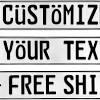C: (3, 4, 13, 24)
E: (33, 74, 45, 95), (45, 74, 56, 96), (75, 40, 87, 60)
F: (7, 74, 20, 96)
H: (75, 74, 87, 95)
I: (88, 73, 98, 96), (75, 3, 85, 25)
M: (63, 4, 74, 25)
R: (20, 74, 32, 95), (39, 40, 50, 60)
S: (63, 74, 74, 96), (27, 4, 38, 25)
T: (39, 4, 50, 25), (63, 39, 74, 60)
U: (27, 39, 39, 60)
X: (87, 39, 99, 61)
Y: (3, 38, 14, 61)
Z: (87, 3, 98, 25)
oe: (14, 40, 26, 60), (51, 4, 62, 25)
ue: (14, 4, 26, 25)
